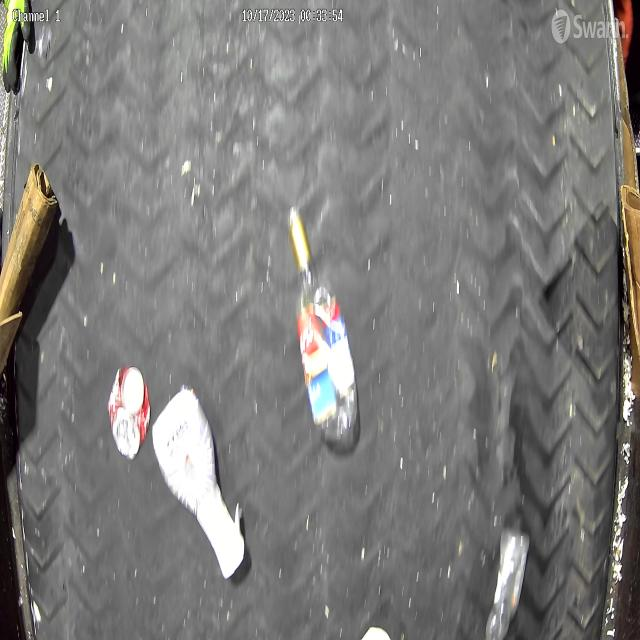can: (108, 364, 150, 460)
plastic_bottle: (290, 208, 358, 447), (484, 524, 532, 640)
